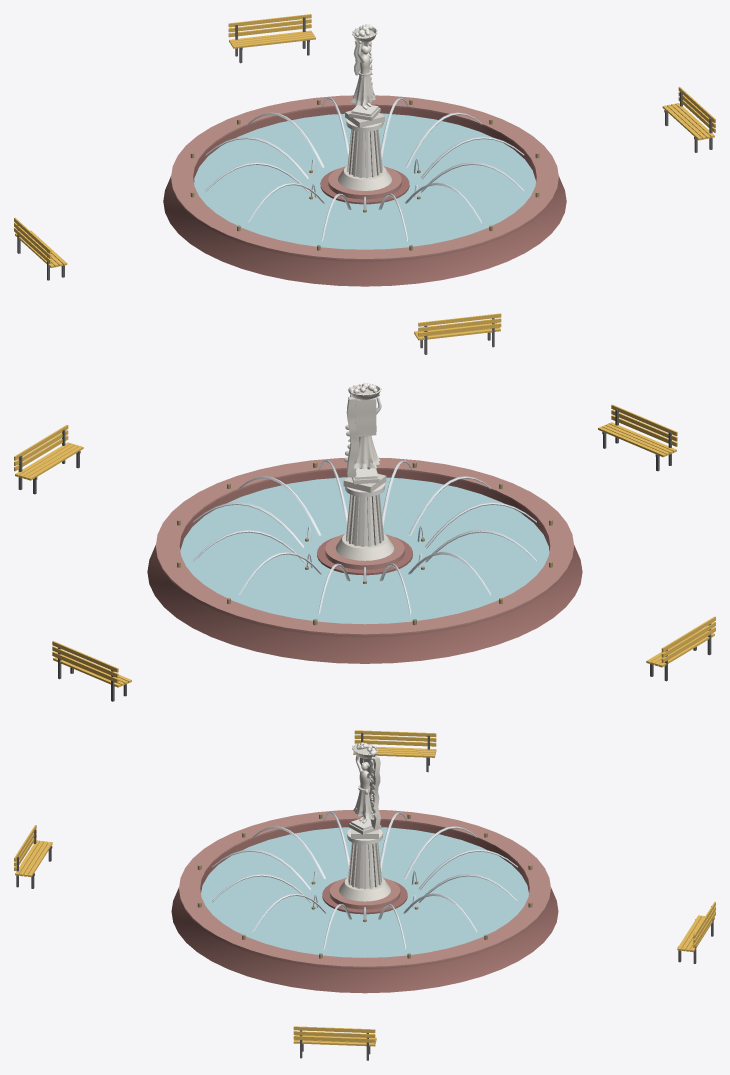
The picture shows the model from 3 angles, top to bottom: view 1: azimuth 30°, elevation 25°; view 2: azimuth 150°, elevation 25°; view 3: azimuth 270°, elevation 25°; orthographic projection. The views are drawn at different scales.
Visible parts, largest first — view 1: base; view 2: base; view 3: base.
Part boxes in pixels (x1,y1,x2,y2): base: [14, 14, 715, 354]; base: [14, 383, 715, 701]; base: [14, 730, 715, 1060].
Size of the model in its own units: 19.06 by 4.99 by 18.86.
